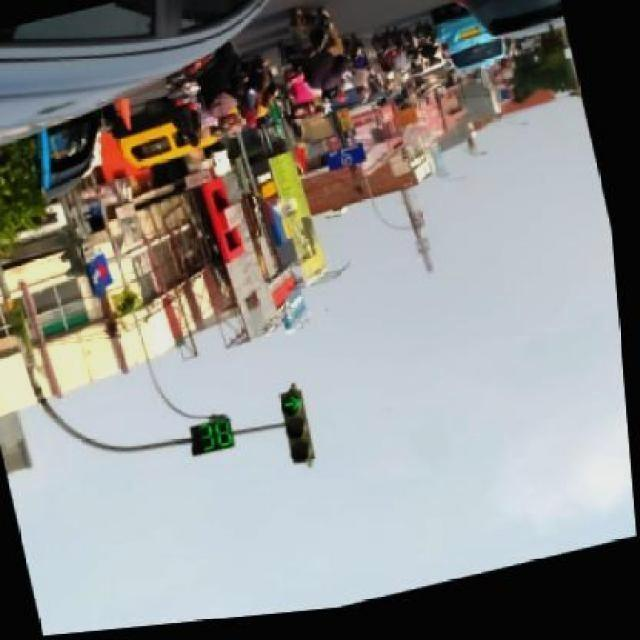Green: (253, 376, 324, 491)
